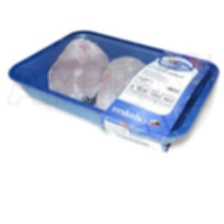plastic_box: (2, 23, 224, 156)
